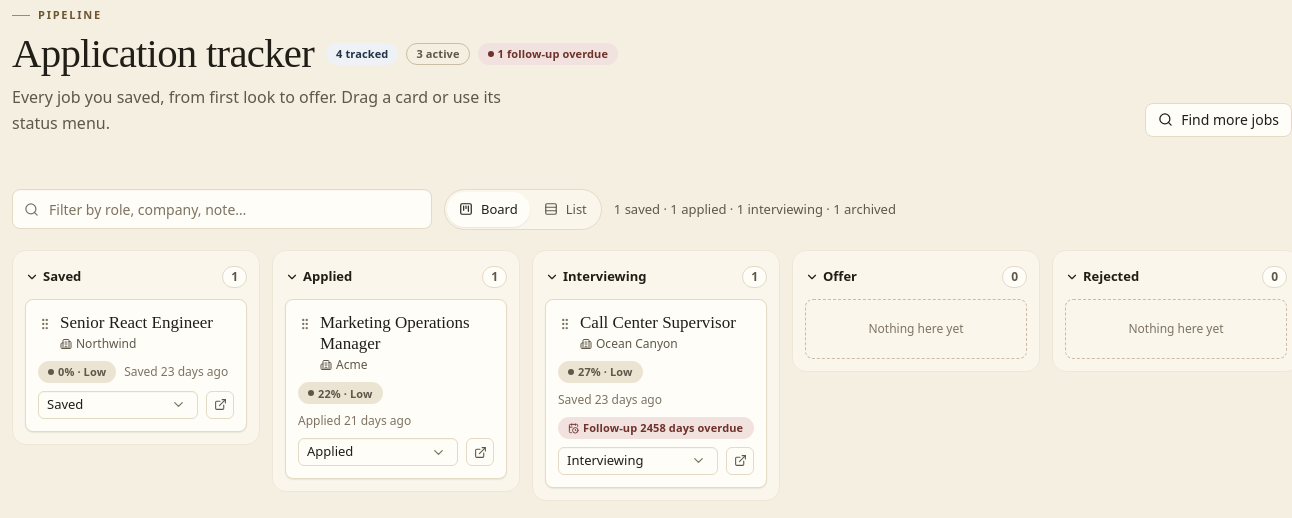
Test: Tracker board › filters the board with the search box
Type "acme" into the search field named "Search tracked applications".
click(222, 209); type("acme")  # box [12,189,432,229]
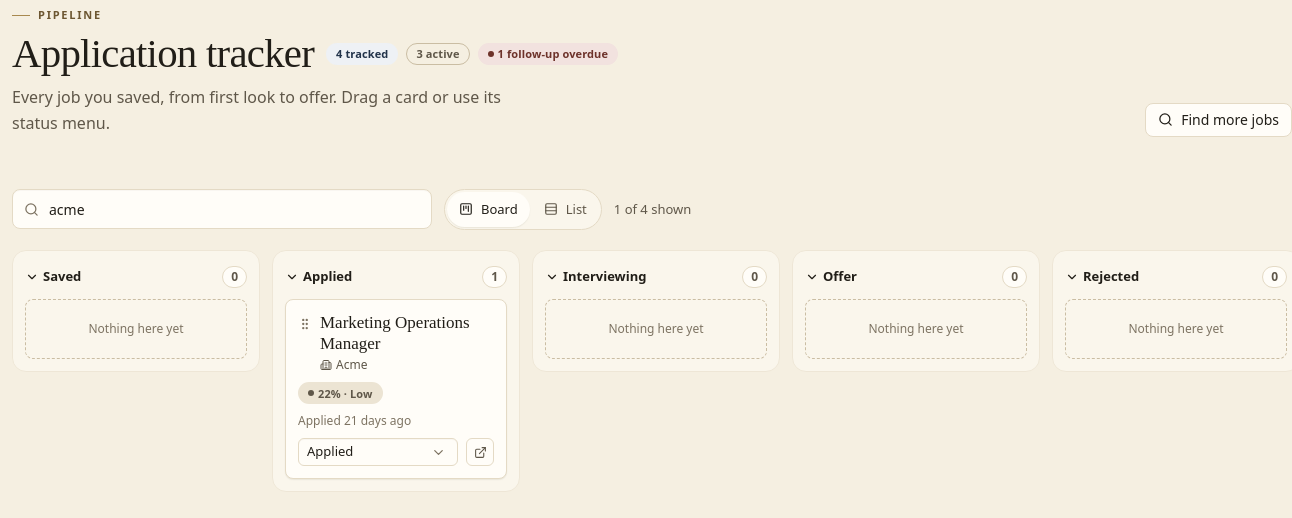
Expected: the text "Marketing Operations Manager" is shown, [320,312,494,354]
Expected: the button "Senior React Engineer" is gone
Expected: the text "1 of 4 shown" is shown, [614,200,691,219]
